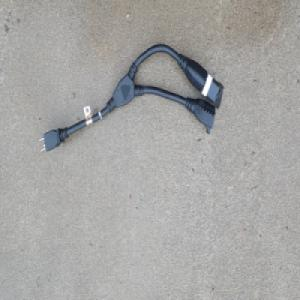Wire: (38, 42, 224, 155)
